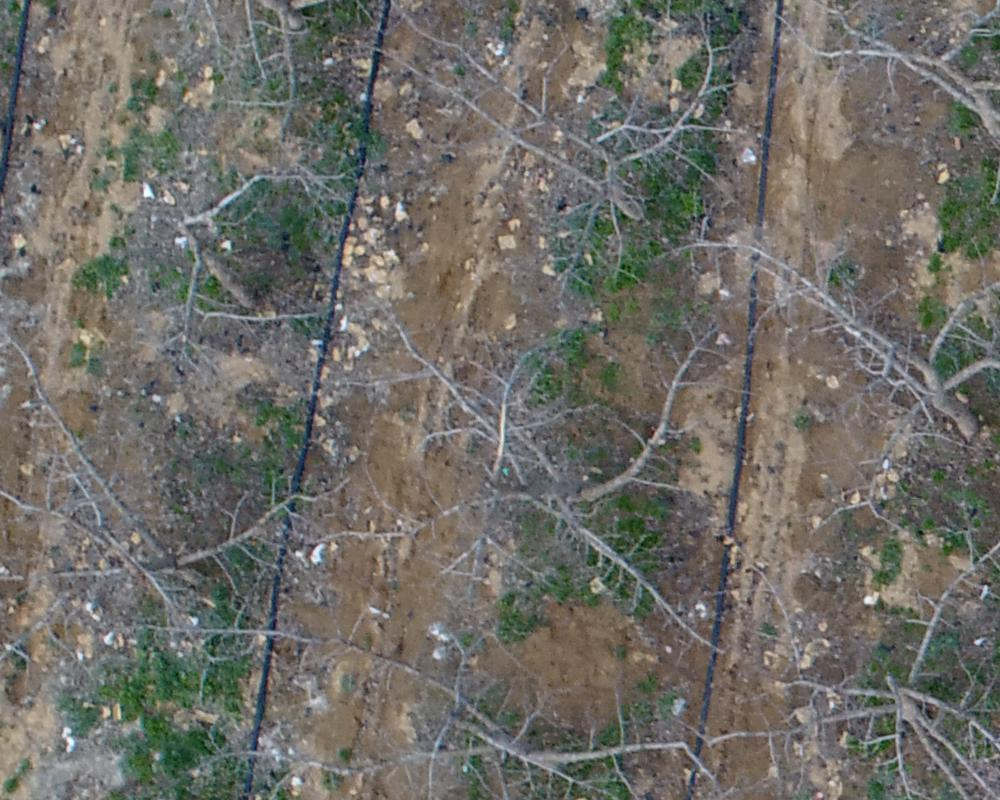apple: (344, 293, 752, 667), (10, 274, 355, 703), (352, 10, 730, 290), (666, 217, 990, 524), (207, 613, 741, 790), (678, 517, 990, 790), (69, 137, 368, 381)
